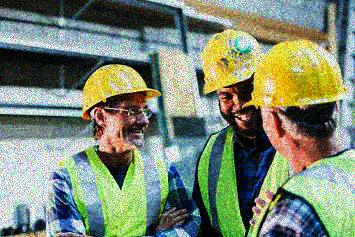helmet: (241, 37, 352, 165), (200, 29, 270, 135), (81, 61, 162, 150)
